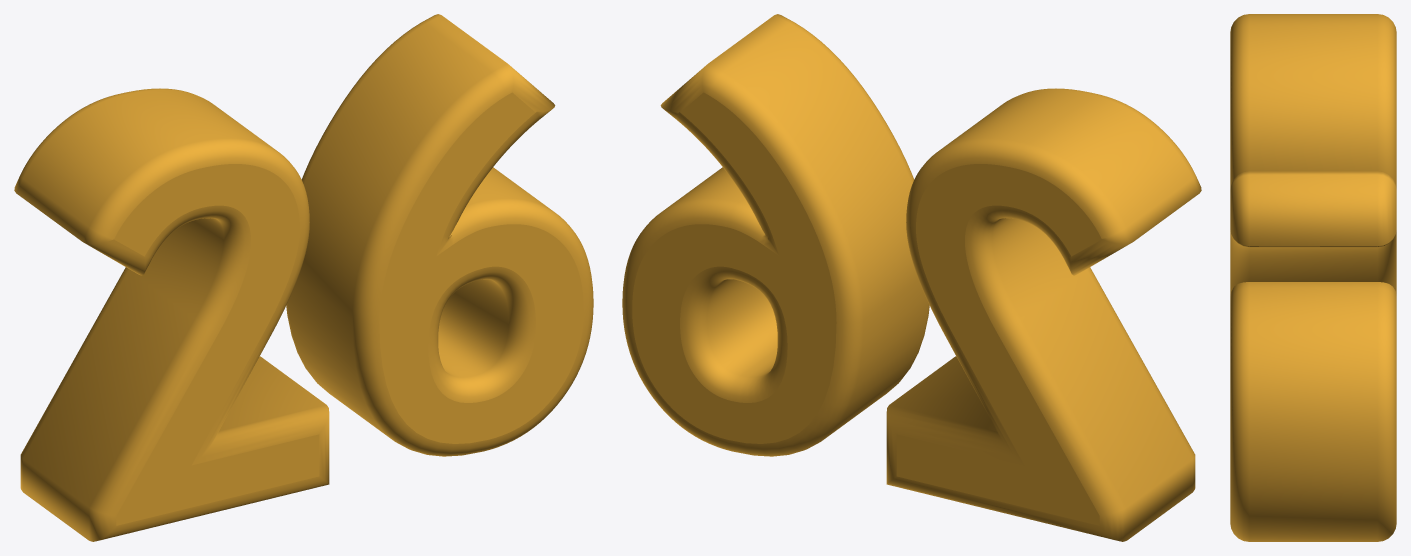
3 views of the same model, side by side, from view 1: azimuth 30°, elevation 25°; view 2: azimuth 150°, elevation 25°; view 3: azimuth 270°, elevation 25° (orthographic). The views are drawn at different scales.
Parts seen in each view (by area): view 1: Text; view 2: Text; view 3: Text.
Part boxes in pixels (left/top/right/bottom): Text: left=14, top=14, right=593, bottom=541; Text: left=622, top=14, right=1201, bottom=541; Text: left=1230, top=14, right=1396, bottom=541.
Bounding box in the file's own units: 88.84 × 63.4 × 26.
